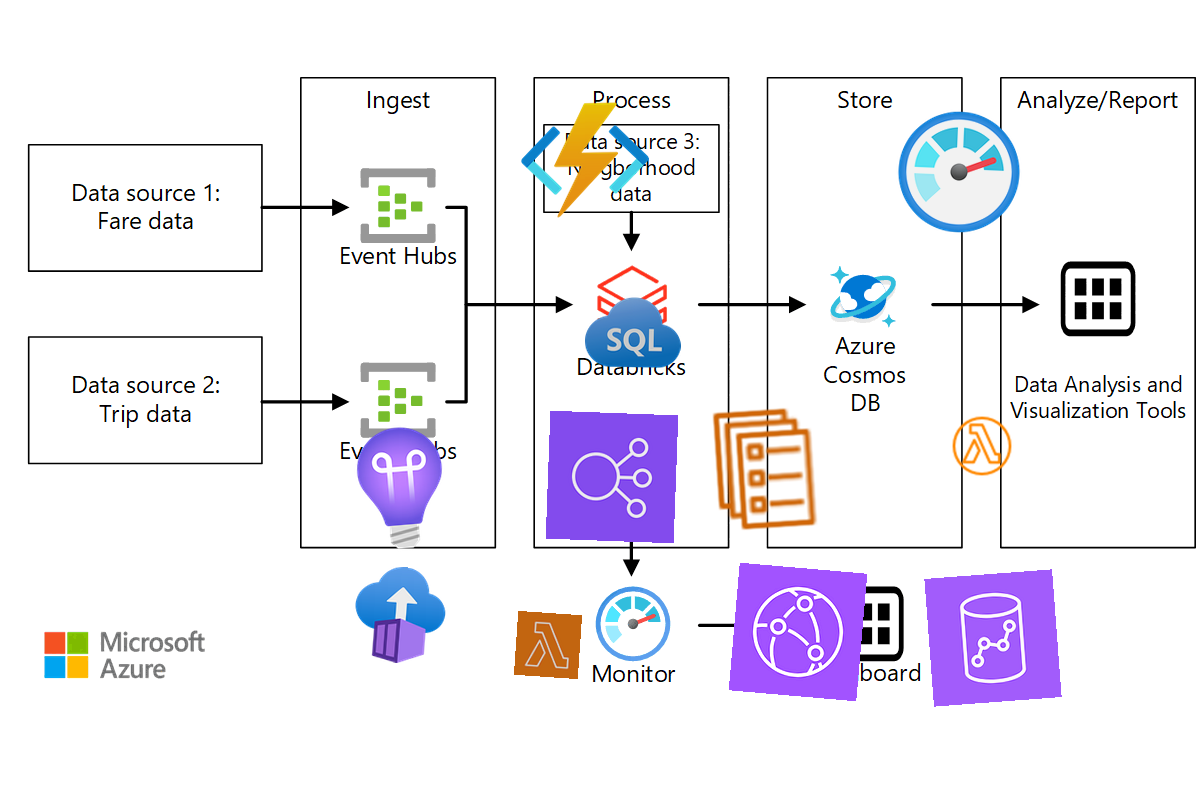aws_amazon_cloudfront: (728, 562, 868, 702)
aws_amazon_redshift: (924, 569, 1062, 707)
aws_elastic_container_service_service: (696, 400, 834, 538)
aws_elastic_load_balancing: (545, 410, 679, 544)
aws_lambda: (513, 610, 583, 680)
aws_lambda_lambda_function: (949, 413, 1015, 479)
azure_application_insights: (331, 418, 471, 558)
azure_container_instances: (348, 563, 452, 667)
azure_function_apps: (519, 94, 651, 226)
azure_monitor: (892, 105, 1026, 239)
azure_sql: (584, 285, 682, 383)
